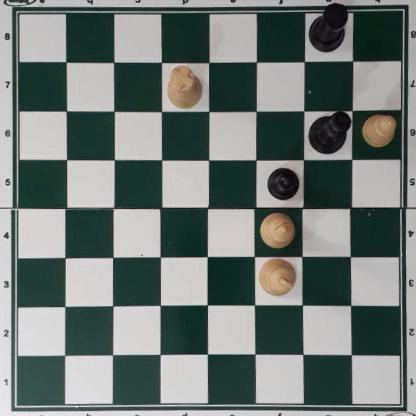black-king: (306, 110, 351, 153)
black-pawn: (267, 165, 299, 200)
black-rook: (307, 2, 351, 52)
white-bishop: (260, 211, 295, 248)
white-king: (256, 256, 297, 297)
white-pawn: (361, 112, 398, 147)
white-rook: (166, 66, 202, 109)
